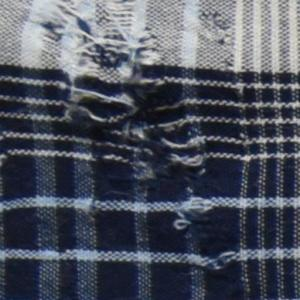Damage: (24, 1, 262, 300)
